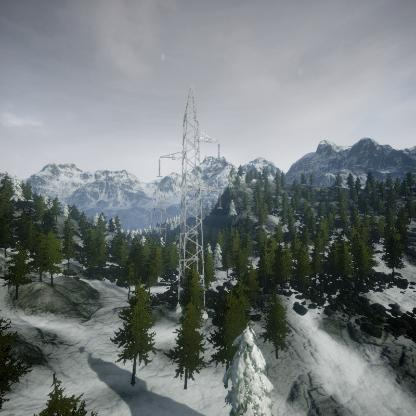tower: (155, 85, 223, 325)
